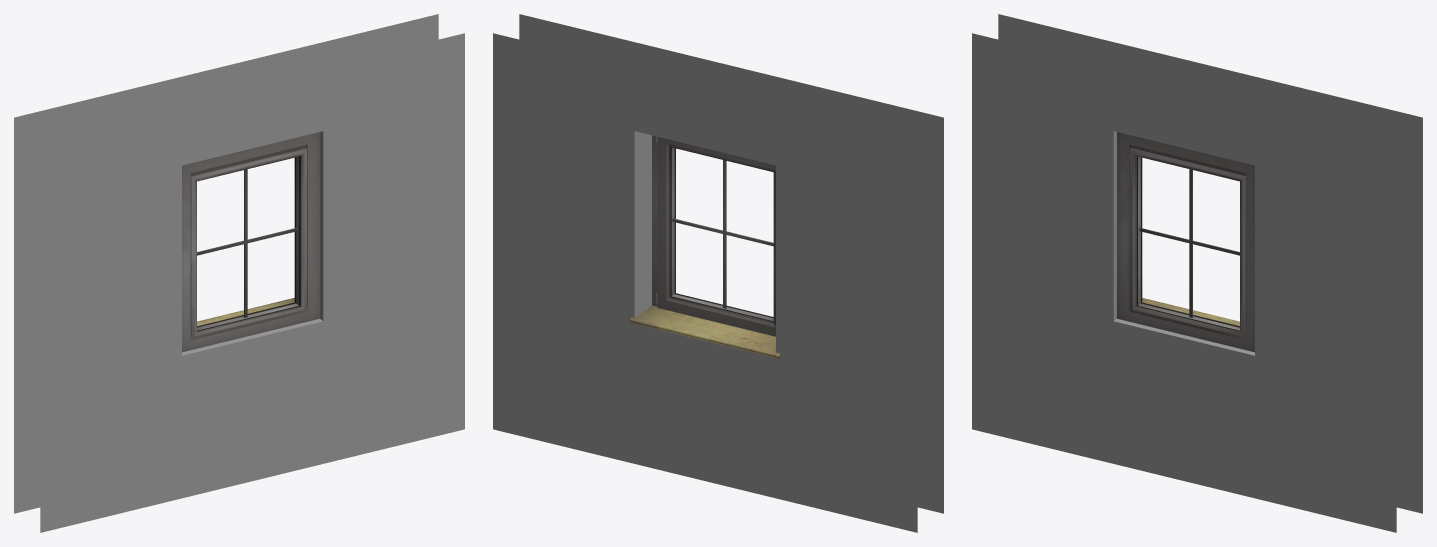
The model's file is window.obj.
3 renders of one model, left to right at view 1: azimuth 30°, elevation 25°; view 2: azimuth 150°, elevation 25°; view 3: azimuth 330°, elevation 25°, orthographic.
Parts seen in each view (by area): view 1: Plane.004_Plane.010, Plane.001, Plane; view 2: Plane.004_Plane.010, Plane, Plane.001; view 3: Plane.004_Plane.010, Plane.001, Plane.
Boxes of the visible parts, x1,y1,x2,y2 form: Plane.004_Plane.010: [14, 14, 464, 532]; Plane.001: [182, 132, 319, 352]; Plane: [191, 145, 306, 339]; Plane.004_Plane.010: [493, 14, 943, 532]; Plane: [655, 136, 775, 336]; Plane.001: [628, 135, 780, 358]; Plane.004_Plane.010: [972, 14, 1422, 532]; Plane.001: [1117, 132, 1254, 352]; Plane: [1130, 145, 1245, 339].
Bounding box in the file's own units: 628 × 560 × 71.68.
